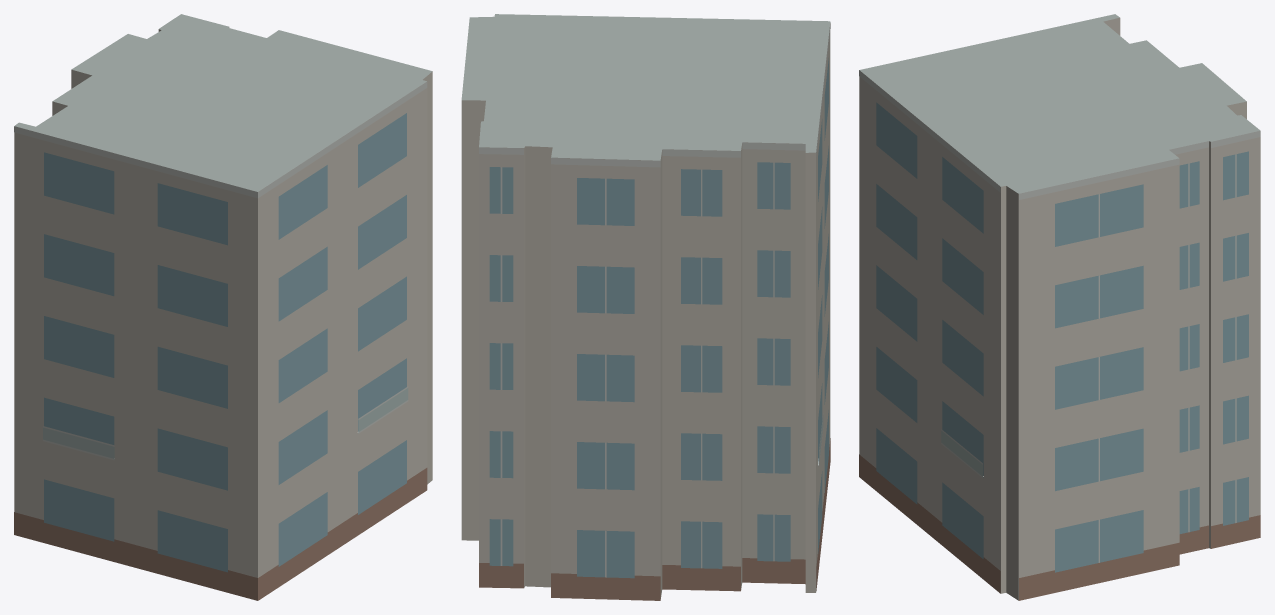
Rendered from survey-upis-32840694.glb.
3 views of the same model, side by side, from view 1: azimuth 30°, elevation 25°; view 2: azimuth 150°, elevation 25°; view 3: azimuth 270°, elevation 25° (orthographic). The views are drawn at different scales.
Parts seen in each view (by area): view 1: survey-upis-32840694.tmp; view 2: survey-upis-32840694.tmp; view 3: survey-upis-32840694.tmp.
Part boxes in pixels (left/top/right/bottom): survey-upis-32840694.tmp: left=14, top=14, right=432, bottom=600; survey-upis-32840694.tmp: left=461, top=14, right=830, bottom=600; survey-upis-32840694.tmp: left=859, top=14, right=1260, bottom=600.
Bounding box in the file's own units: 14.96 × 15.78 × 14.11.
